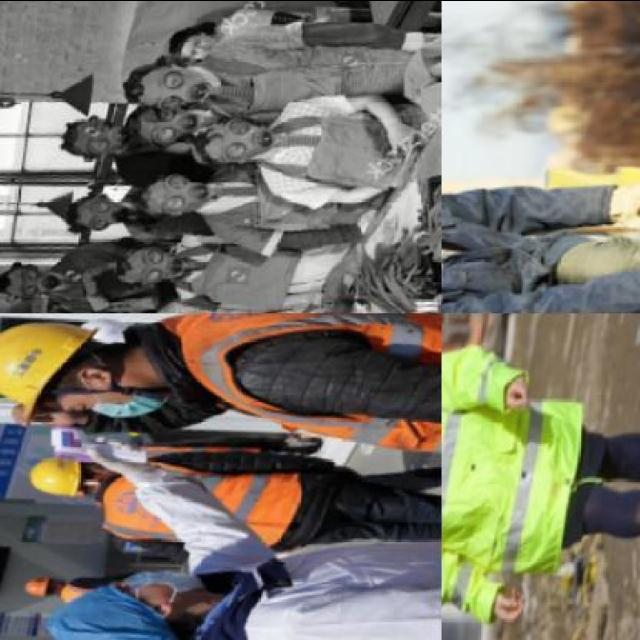helmet: (0, 306, 101, 435), (29, 448, 82, 500), (20, 568, 56, 602)
